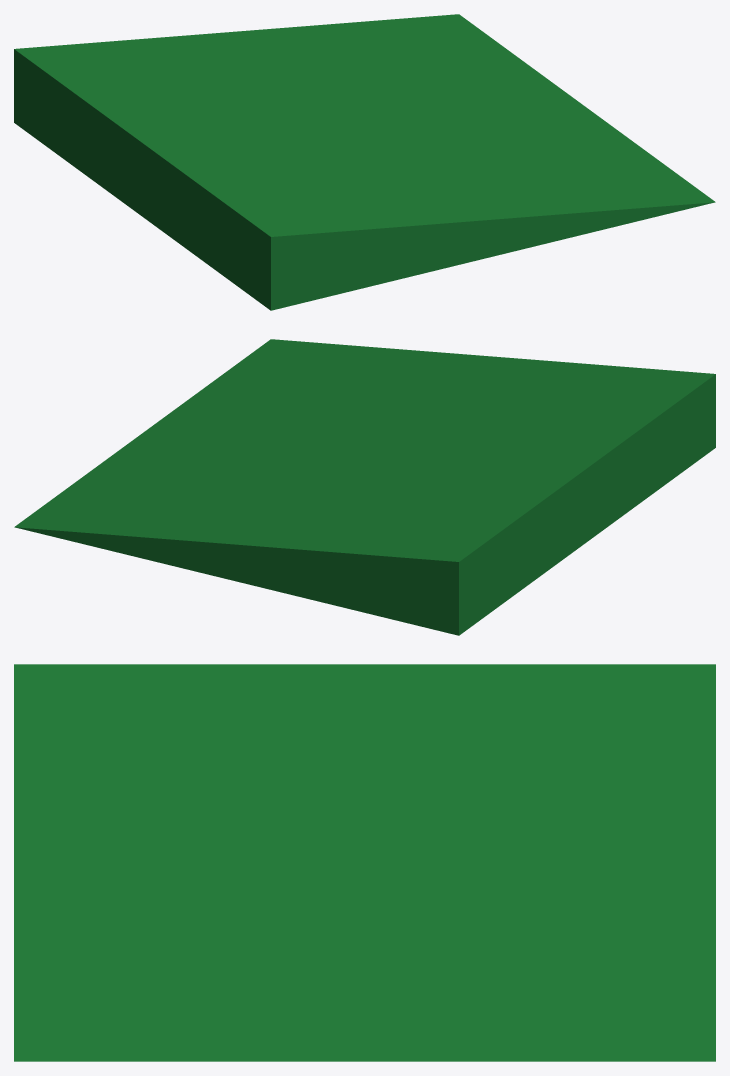
File: ramp.dae
3 renders of one model, top to bottom at view 1: azimuth 30°, elevation 25°; view 2: azimuth 150°, elevation 25°; view 3: azimuth 270°, elevation 25°, orthographic. The views are drawn at different scales.
Visible parts, largest first — view 1: Cube; view 2: Cube; view 3: Cube.
Part boxes in pixels (bbox=[...]): Cube: bbox=[14, 14, 715, 310]; Cube: bbox=[14, 339, 715, 635]; Cube: bbox=[14, 664, 715, 1061].
Size of the model in its own units: 8 by 8 by 1.27.
